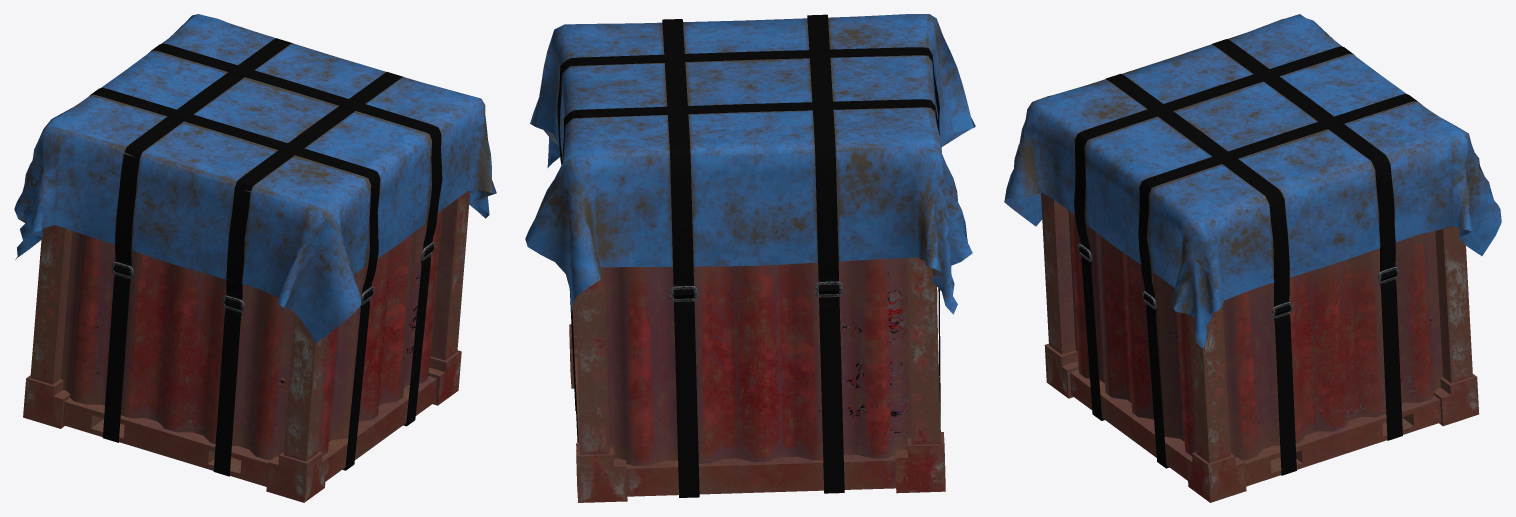
The model's file is airdrop.glb.
The picture shows the model from 3 angles, left to right: view 1: azimuth 30°, elevation 25°; view 2: azimuth 150°, elevation 25°; view 3: azimuth 270°, elevation 25°; orthographic projection. The views are drawn at different scales.
Visible parts, largest first — view 1: DROP; view 2: DROP; view 3: DROP.
Part boxes in pixels (box(x1,y1,x2,y2)): DROP: box(14, 14, 496, 502); DROP: box(525, 14, 975, 502); DROP: box(1004, 14, 1501, 502).
Size of the model in its own units: 3.48 by 2.53 by 3.64.
Materials: 1 (1 with a texture image).
